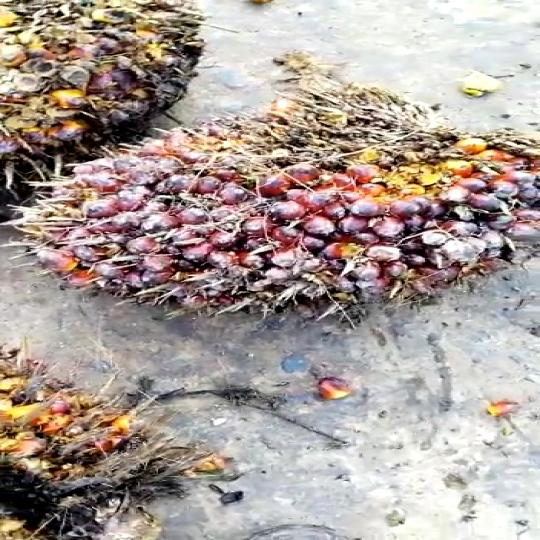masak: (0, 102, 540, 326)
